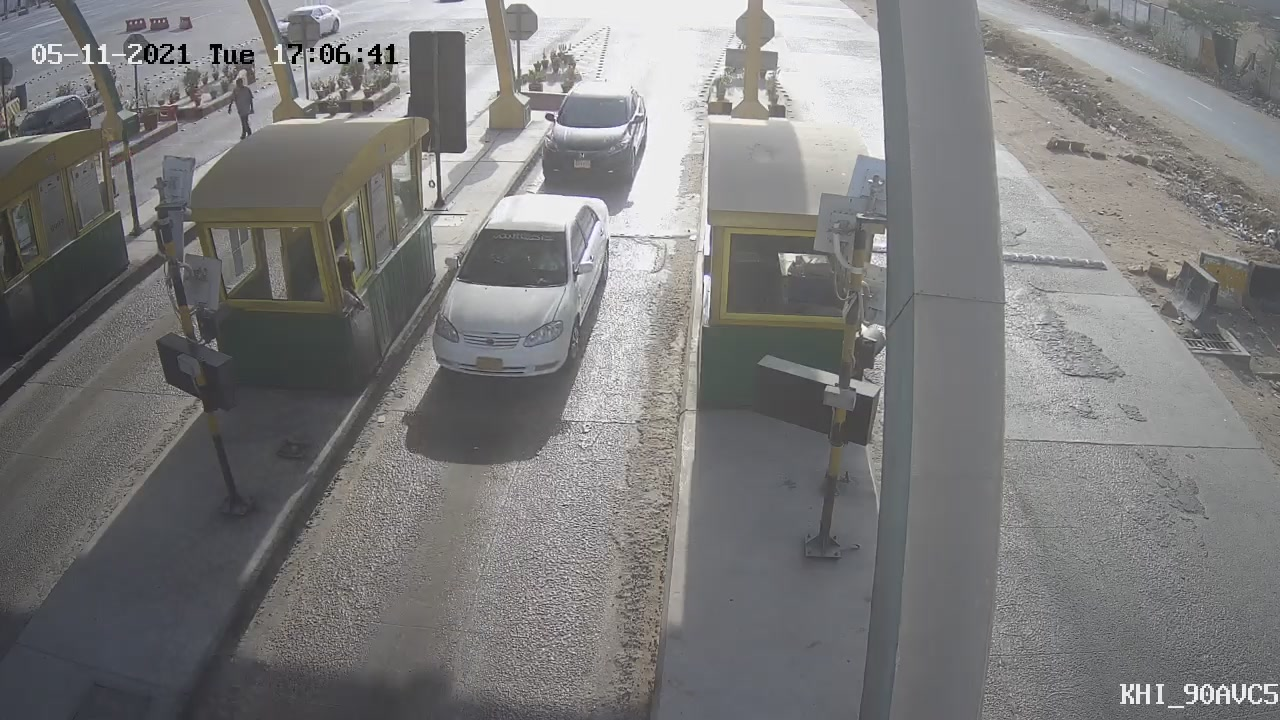F1: (405, 174, 635, 403), (521, 59, 668, 194)
